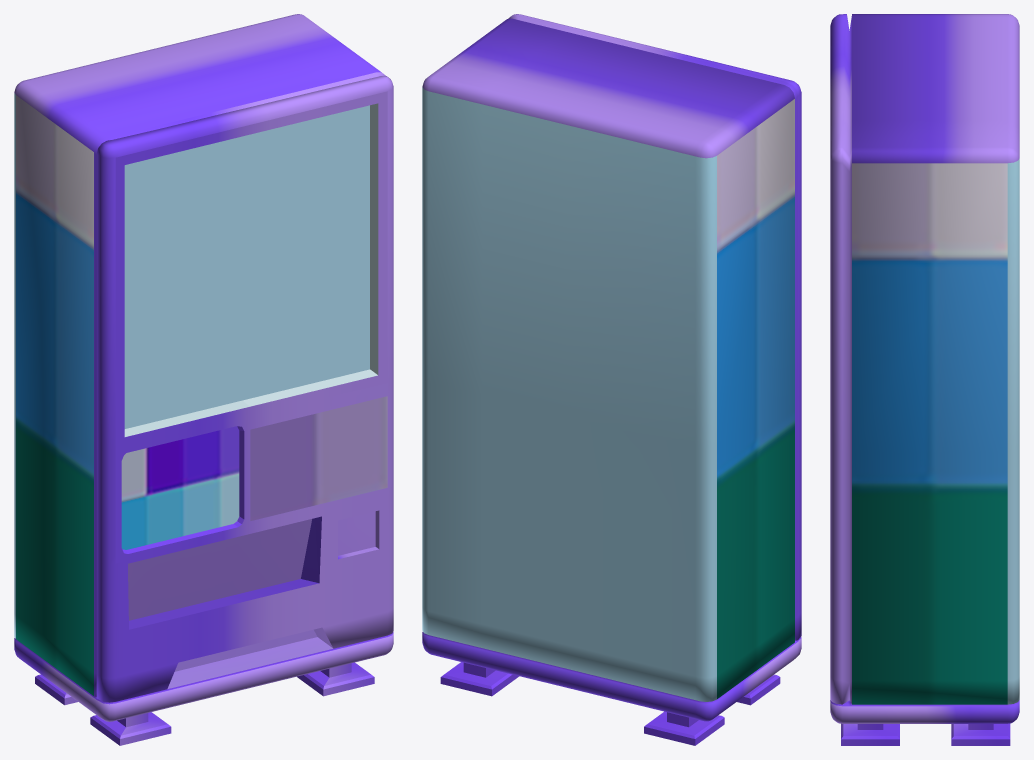
File: VwendingMachine001.fbx
3 views of the same model, side by side, from view 1: azimuth 30°, elevation 25°; view 2: azimuth 150°, elevation 25°; view 3: azimuth 270°, elevation 25° (orthographic).
Parts seen in each view (by area): view 1: VwendingMachine001; view 2: VwendingMachine001; view 3: VwendingMachine001.
Boxes of the visible parts, x1,y1,x2,y2 form: VwendingMachine001: (14,14,393,745); VwendingMachine001: (422,14,801,745); VwendingMachine001: (830,14,1019,745).
Size of the model in its own units: 91.1 by 180 by 51.24.
